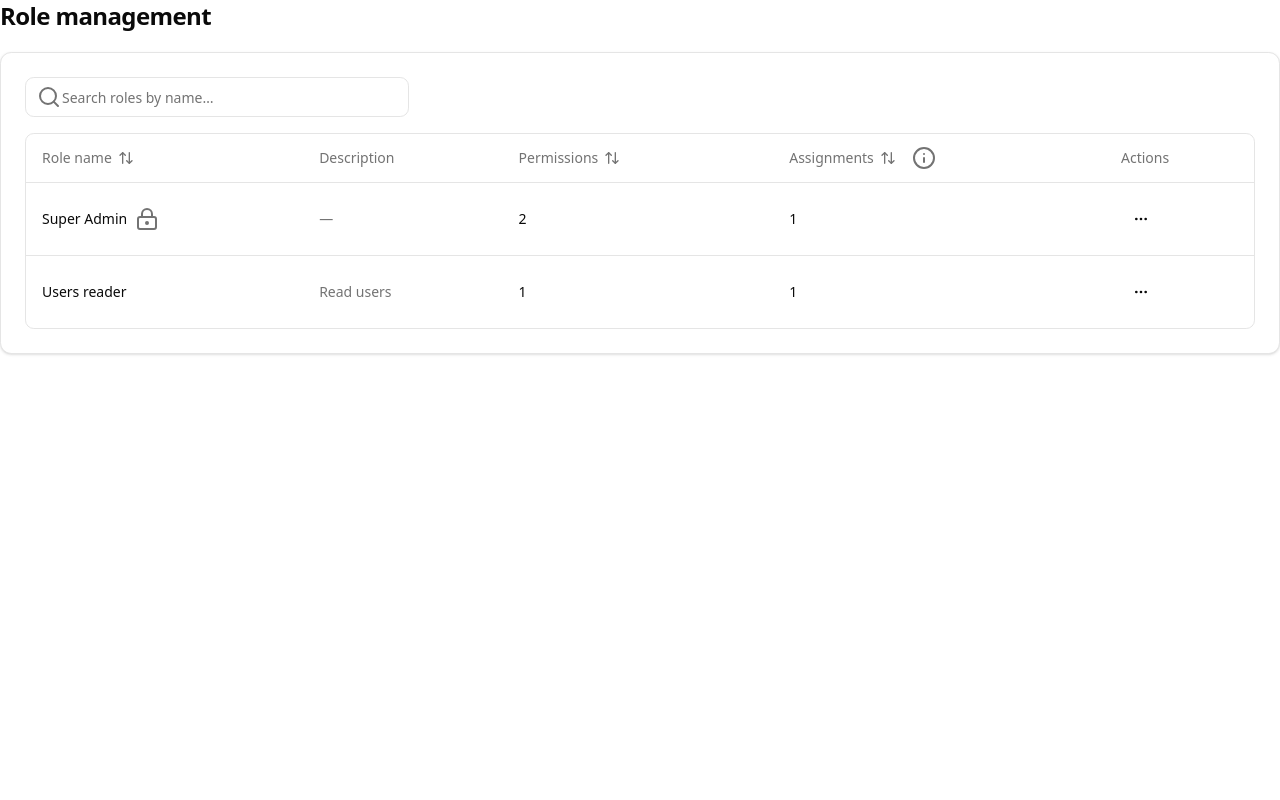
Test: access components › shows role details without type labels and localizes permissions
expect the picture named "Temvia built-in role; it cannot be edited or deleted." is shown: met, box 135,206 -> 159,230
Click the button "Super Admin".
click(85, 218)  # box 42,208 -> 127,228
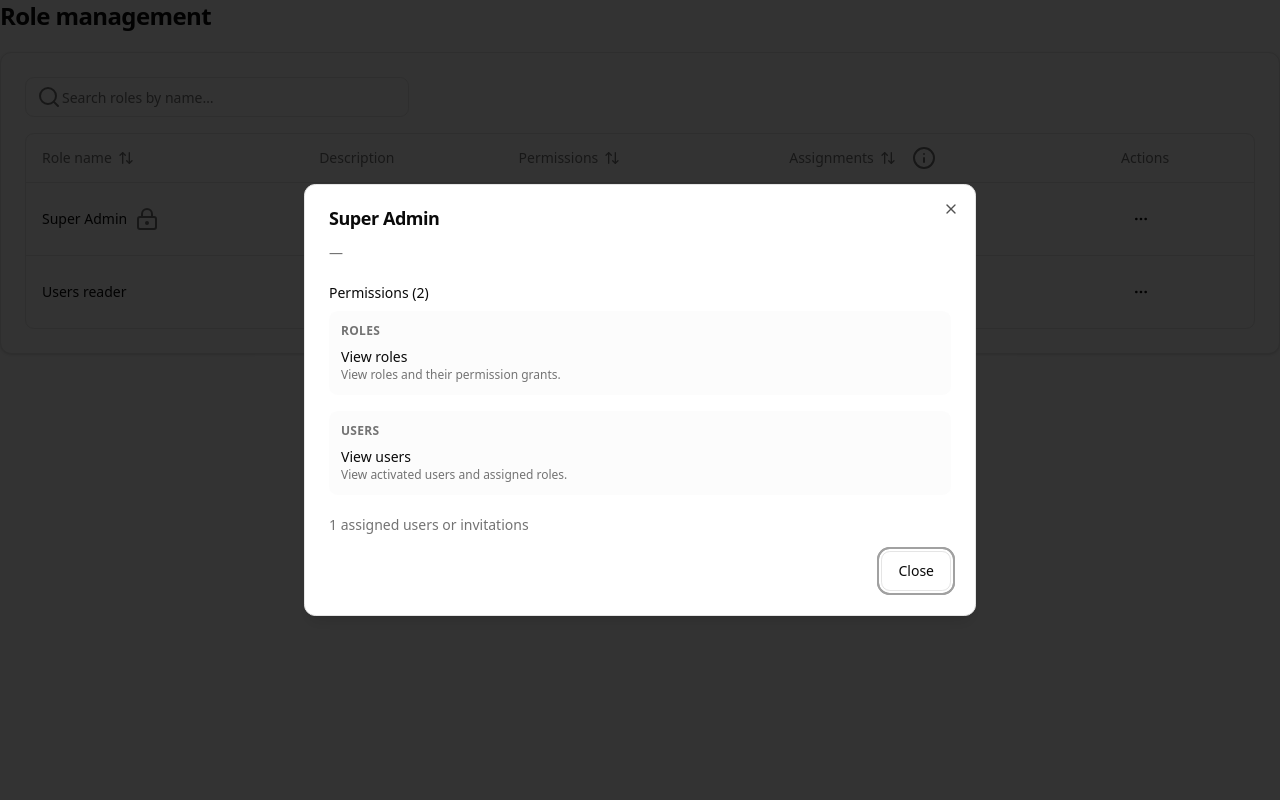
expect the dialog "Super Admin" does not show "Built-in role": met, box 304,184 -> 976,616
expect the dialog "Super Admin" shows "View users": met, box 341,447 -> 411,466
